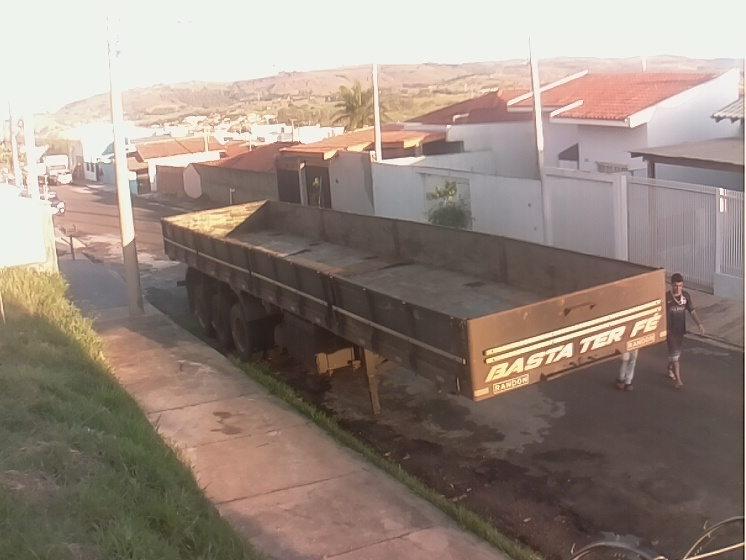person: (663, 273, 707, 389), (617, 346, 638, 393)
